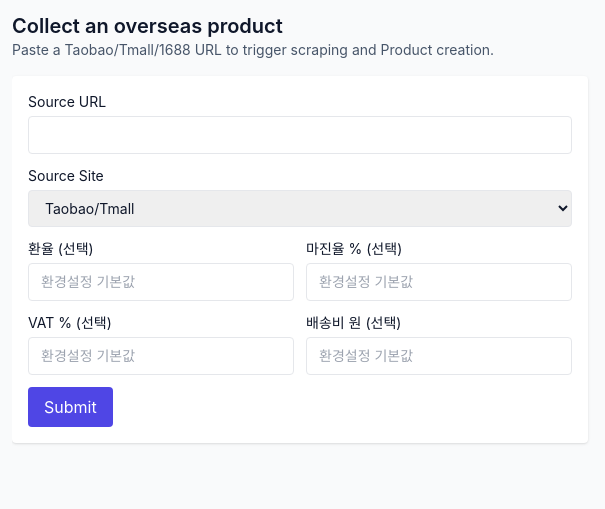
ImportProductPage › shows a success status when the import succeeds
Type "https://example.com/item/1" into the field labelled "Source URL" at (300, 135), box [28,116,572,154]
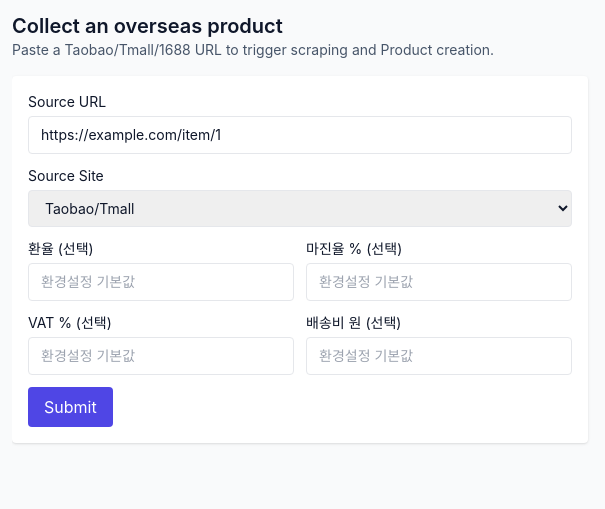
Click the button "Submit" at (70, 407), box [28,387,113,427]
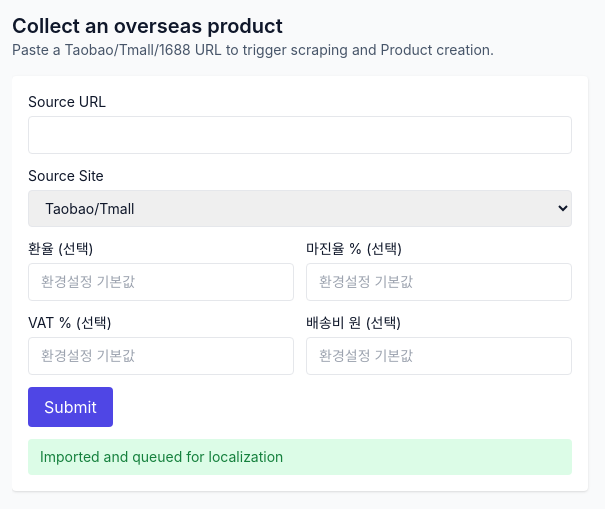
Result: the text "Imported and queued for localization" is shown at [28,439,572,475]
